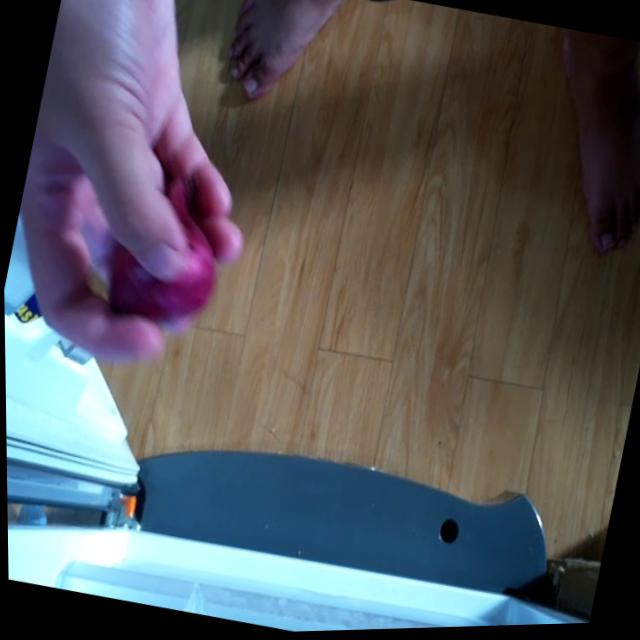onion: (83, 149, 241, 359)
